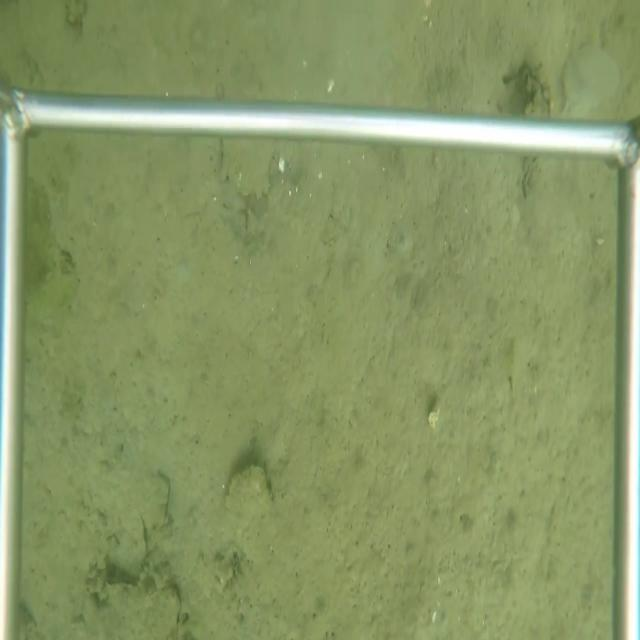Oyster-Indeterminate: (80, 581, 180, 640), (224, 463, 275, 513)
